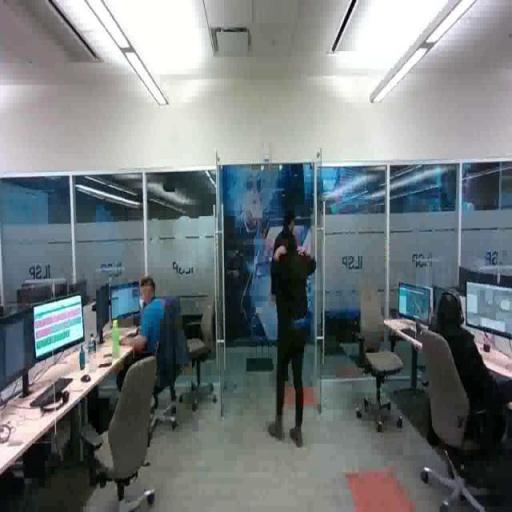person: (423, 289, 512, 472), (118, 278, 192, 432), (269, 229, 320, 444)
